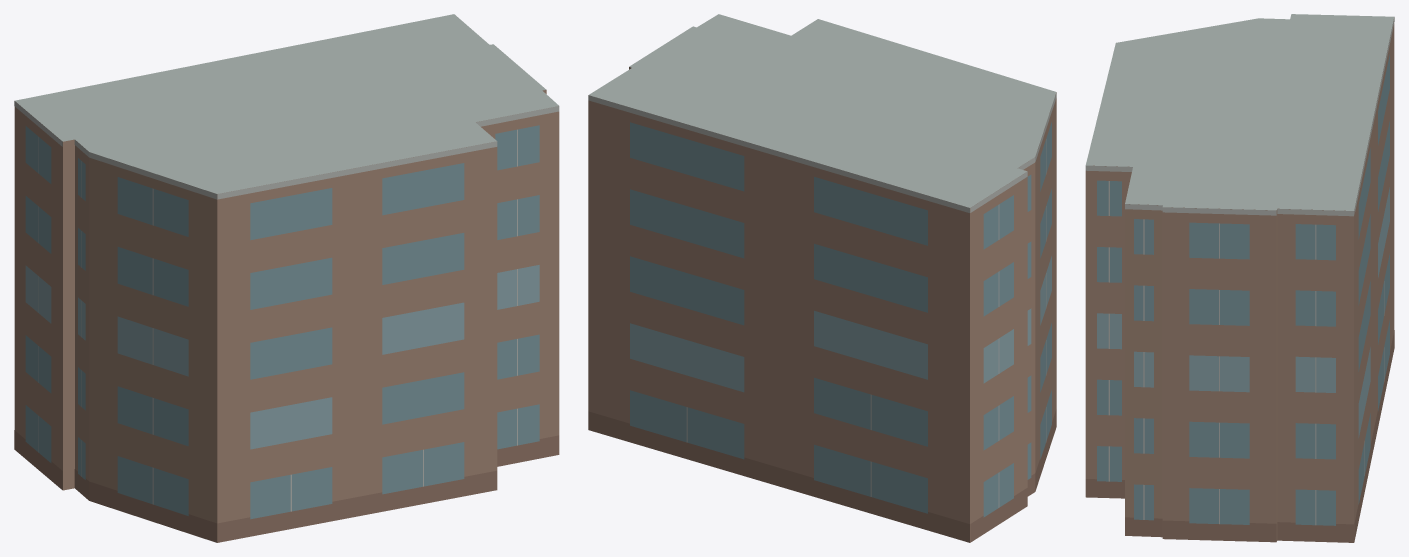
File: survey-upis-32961422.glb
3 renders of one model, left to right at view 1: azimuth 30°, elevation 25°; view 2: azimuth 150°, elevation 25°; view 3: azimuth 270°, elevation 25°, orthographic. The views are drawn at different scales.
Visible parts, largest first — view 1: survey-upis-32961422.tmp; view 2: survey-upis-32961422.tmp; view 3: survey-upis-32961422.tmp.
Boxes of the visible parts, box(x1,y1,x2,y2) form: survey-upis-32961422.tmp: box(14, 14, 559, 542); survey-upis-32961422.tmp: box(588, 14, 1056, 542); survey-upis-32961422.tmp: box(1085, 14, 1394, 542).
Size of the model in its own units: 19.62 by 15.4 by 13.
